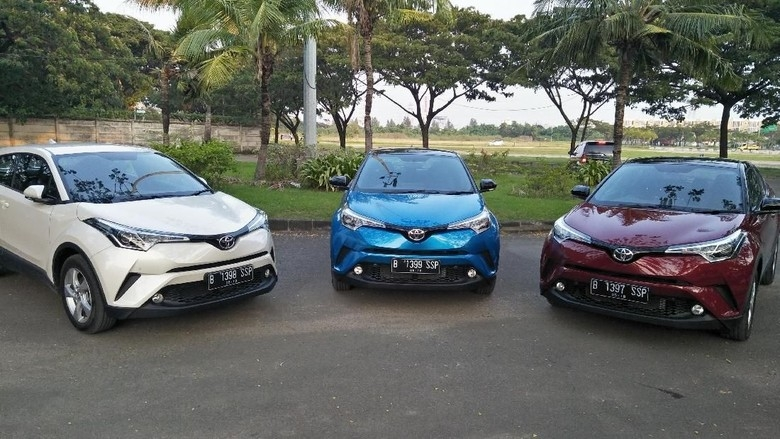plate: (591, 278, 647, 303), (209, 266, 255, 287), (393, 258, 439, 275)
